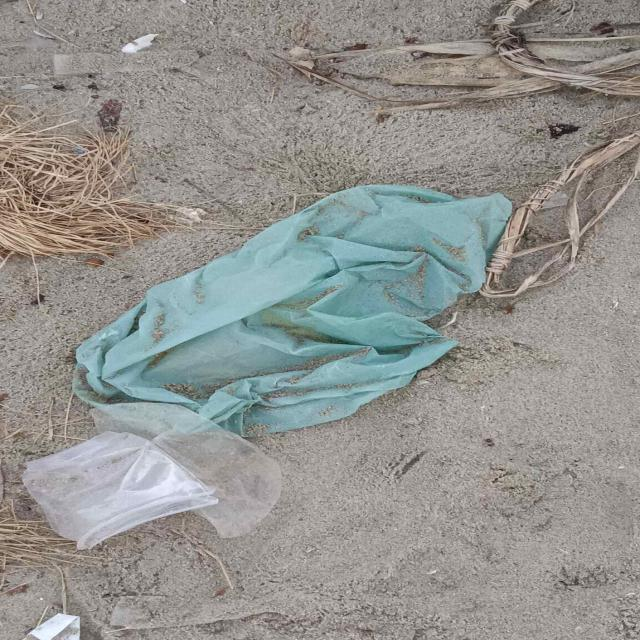nhua: (74, 185, 511, 435), (89, 403, 280, 538), (21, 432, 217, 550)
rac_huu_co: (0, 102, 175, 257), (478, 131, 640, 298)
